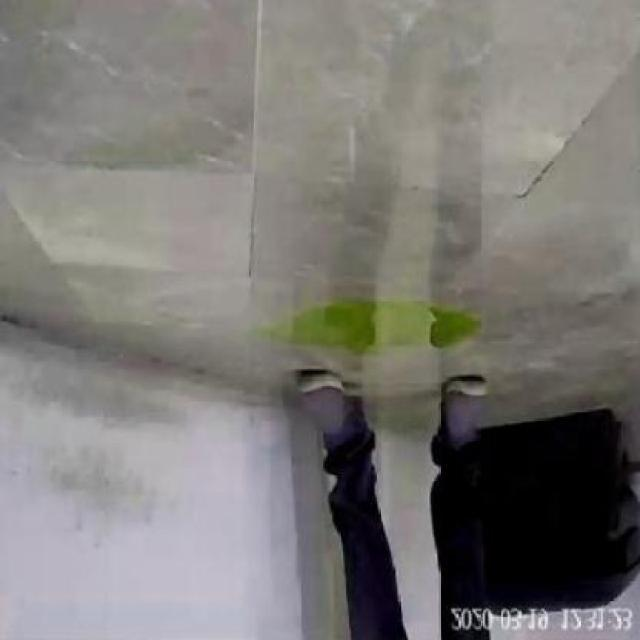spillage: (280, 301, 479, 347)
